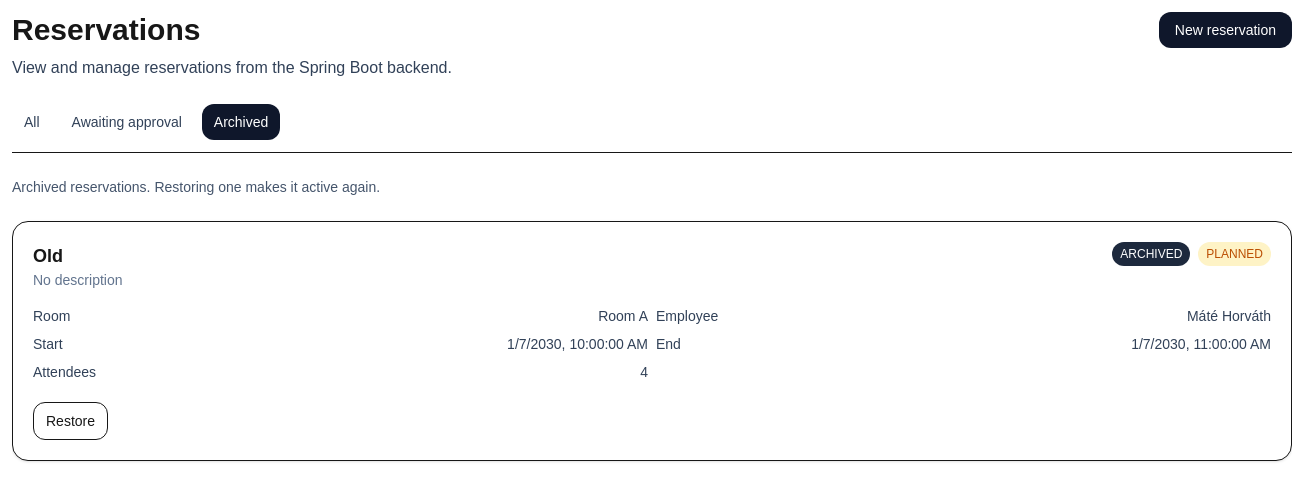
Scenario: ReservationsPage › lets an admin restore an archived reservation
The width and height of the screenshot is (1292, 479).
Check: the heading "Old" is shown, box [33,246,63,266]
Click the button "Restore". click: click(70, 421)
box: [33,402,108,440]
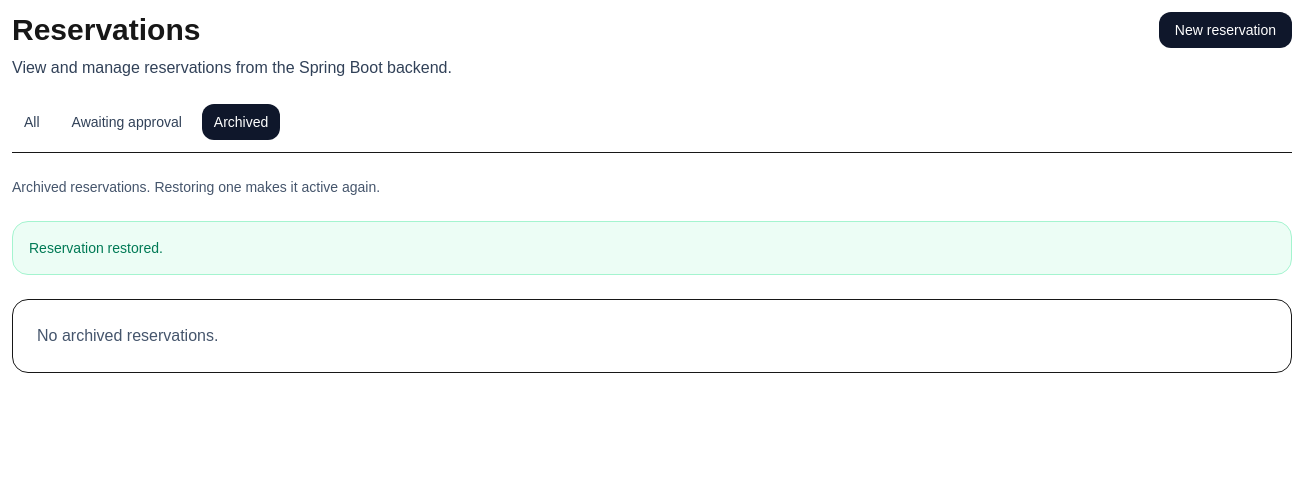
Check: the text "Reservation restored." is shown, box [29,240,163,256]
